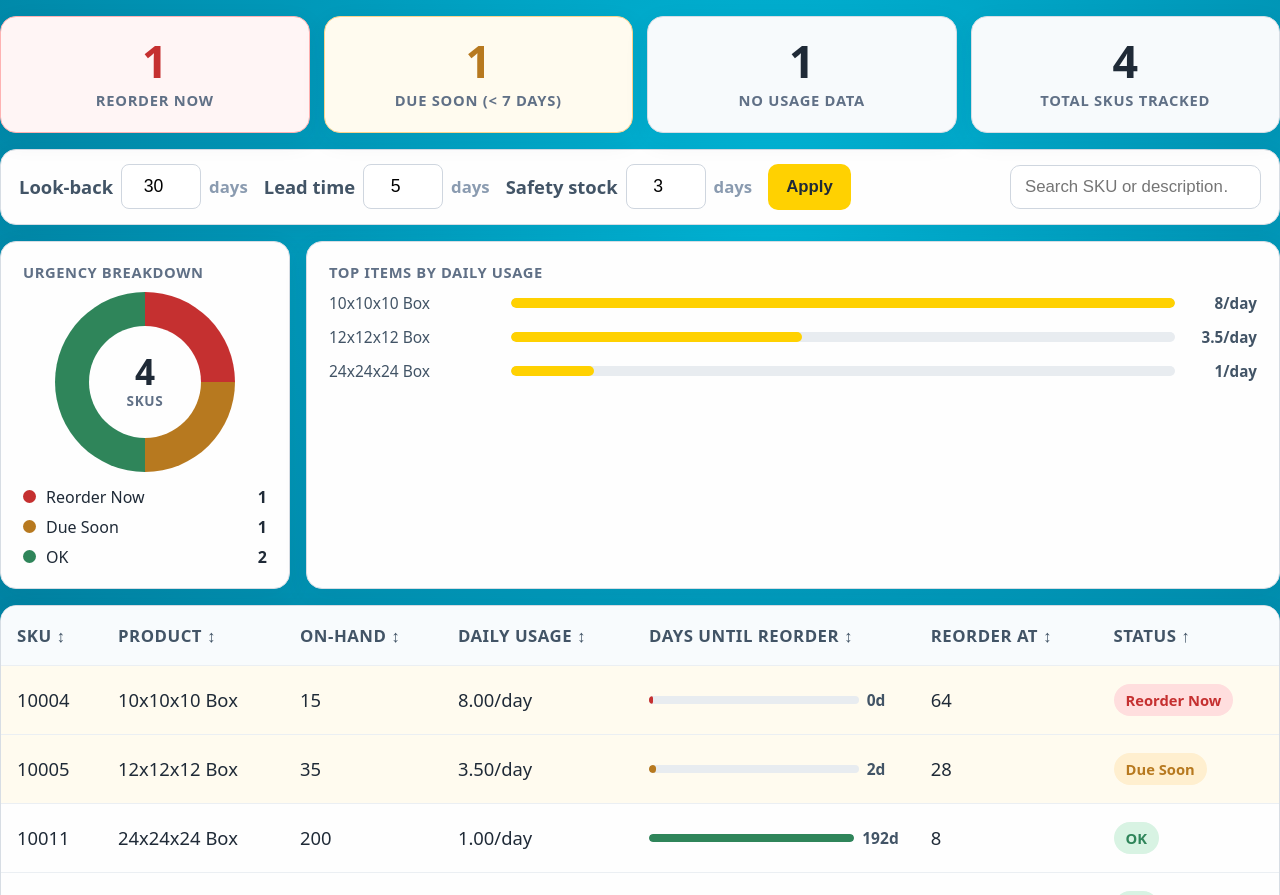
it: expands detail panel when a row is clicked
What coordinates should you click on to do the following:
click the text "10x10x10 Box"
I would click on:
 (640, 700)
Its box is [1,665,1279,734].
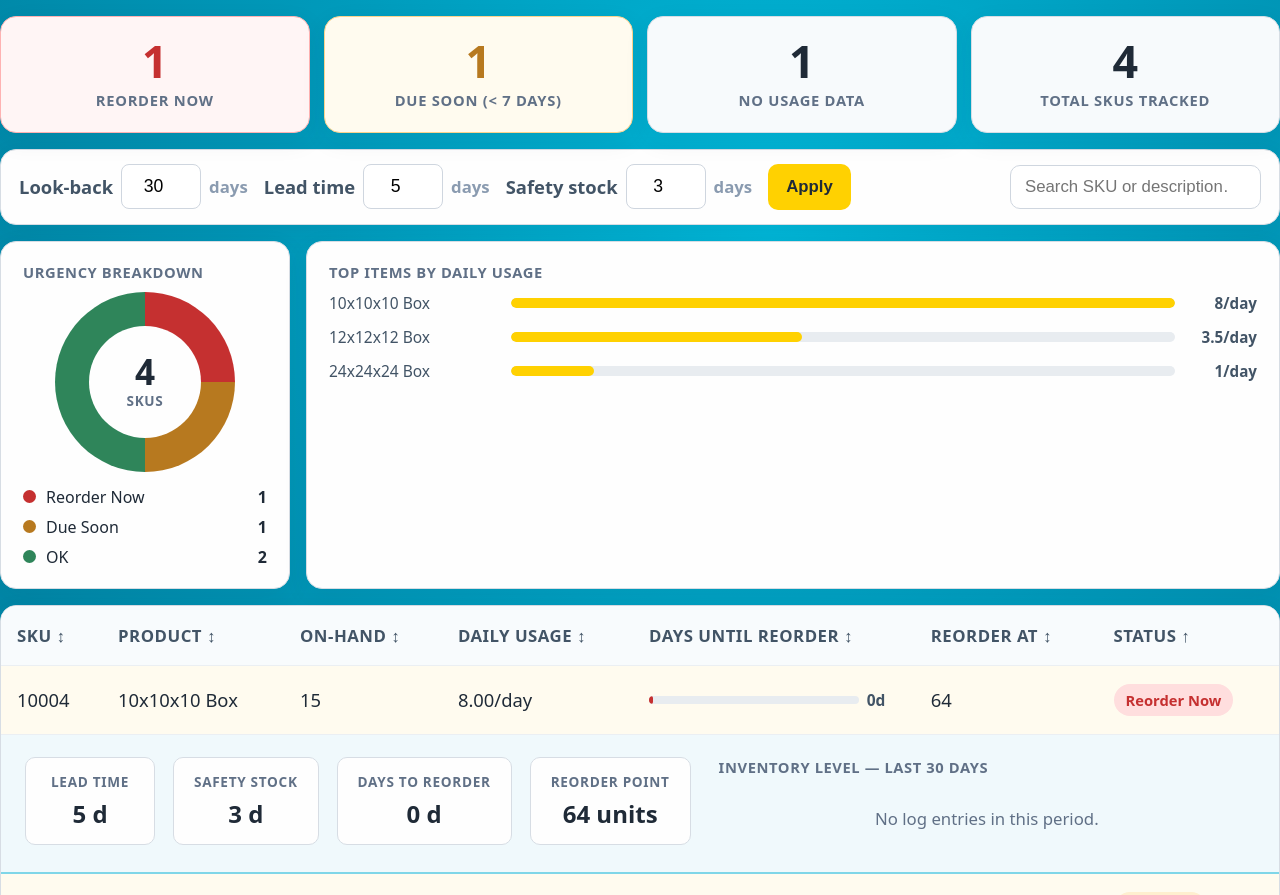
Check: the text "Lead Time" is shown, box [46,772,134,791]
Check: the text "Safety Stock" is shown, box [194,772,298,791]
Check: the text "Days to Reorder" is shown, box [358,772,491,791]
